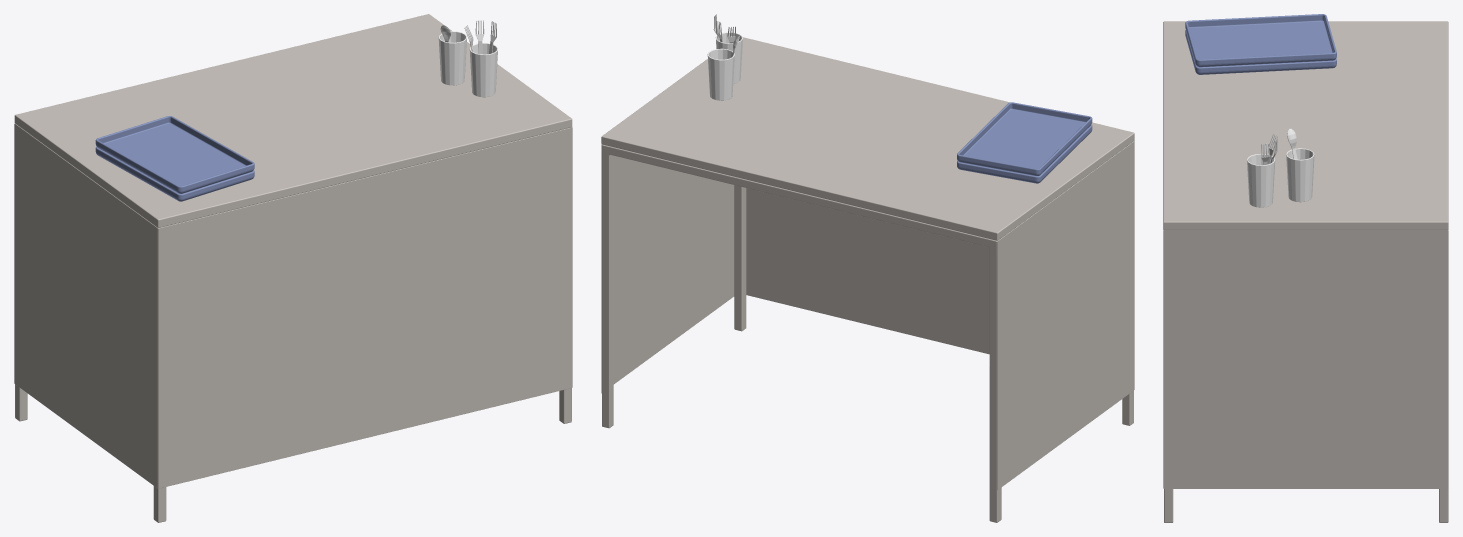
3 views of the same model, side by side, from view 1: azimuth 30°, elevation 25°; view 2: azimuth 150°, elevation 25°; view 3: azimuth 270°, elevation 25° (orthographic). The views are drawn at different scales.
Visible parts, largest first — view 1: Out; view 2: Out; view 3: Out.
Boxes of the visible parts, x1,y1,x2,y2 form: Out: (14, 14, 572, 522); Out: (601, 14, 1134, 522); Out: (1163, 14, 1448, 522).
Size of the model in its own units: 100 by 60 by 85.13.
